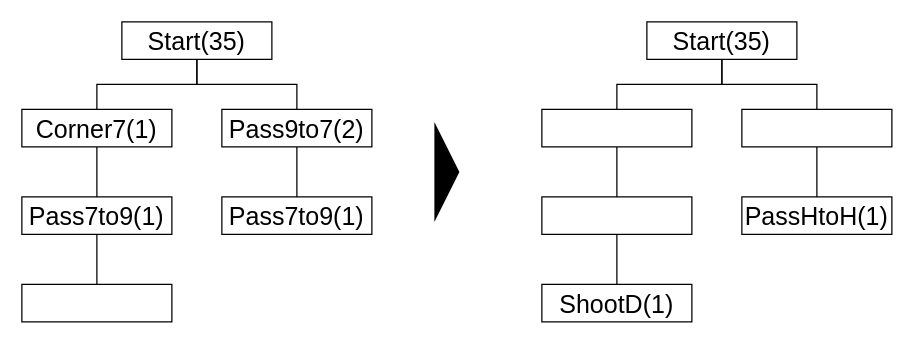
Some shapes in this 914 by 344 pixel diagram are drawn without their labels. The shapes that lost their labels are listed below. From the top down, each one's centre as x and y in pixels, then its label:
(616,127): CornerD(1)
(816,127): PassHtoH(2)
(616,215): PassDtoD(1)
(96,302): Shoot9(1)
